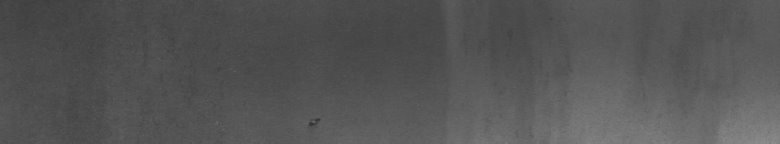fi: (305, 112, 321, 132)
